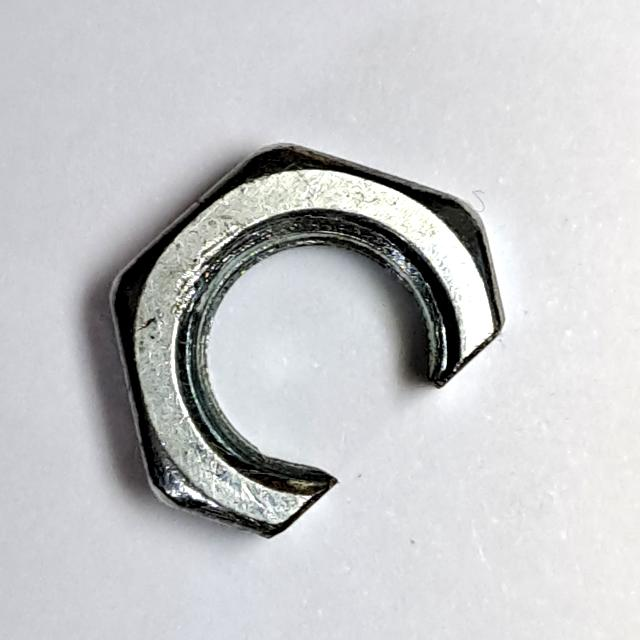Fracture: (89, 119, 511, 559)
